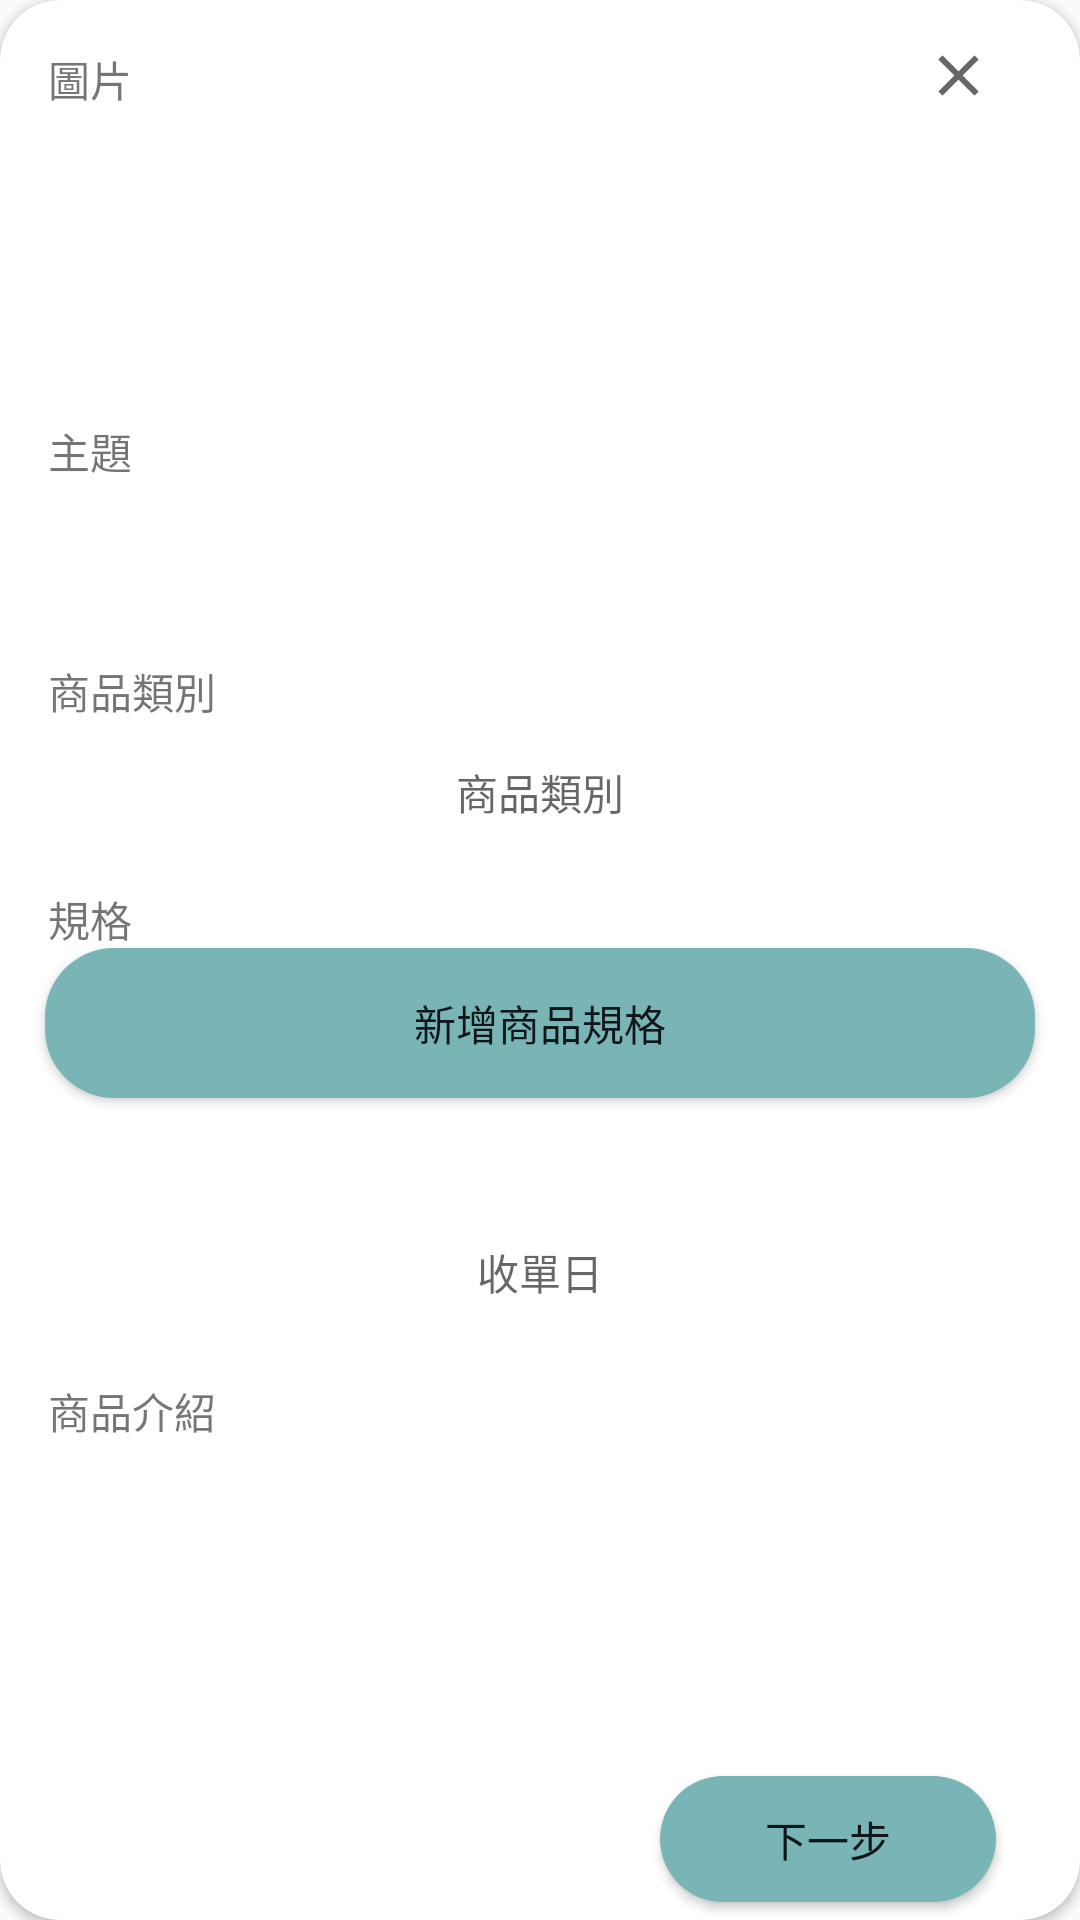

Icon click points for this 1080 x 1920 phone screenshot, format (x,y):
close: (958,75)
